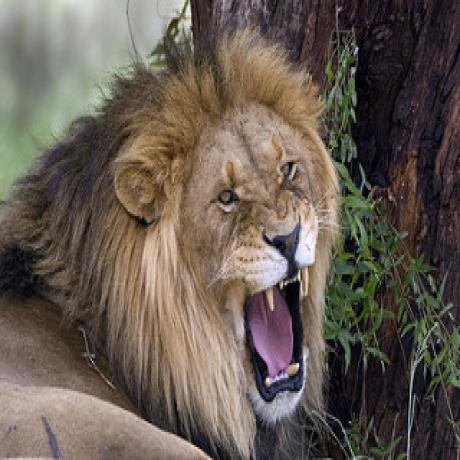Lion: (0, 33, 342, 460)
